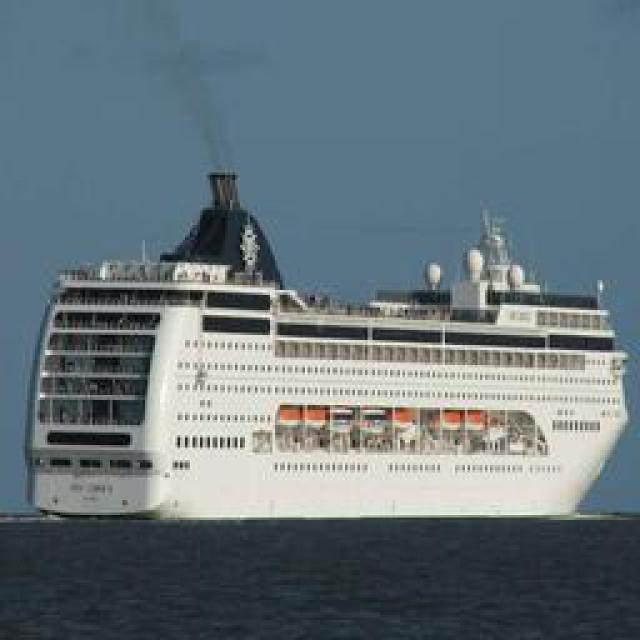Ship: (35, 181, 635, 514)
